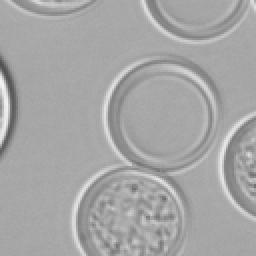picoshell: (104, 56, 220, 174), (70, 164, 188, 254), (140, 0, 248, 42), (218, 112, 254, 220), (0, 56, 14, 152), (8, 0, 94, 14)
